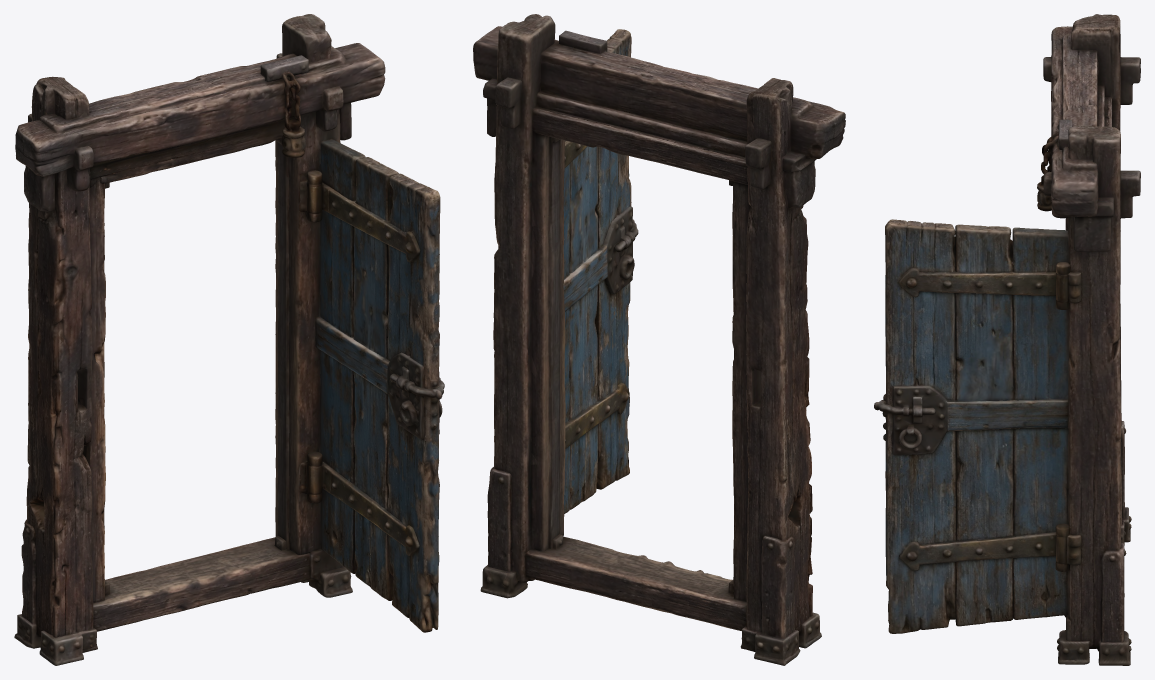
Rendered from door_tripo_segmented.glb.
3 views of the same model, side by side, from view 1: azimuth 30°, elevation 25°; view 2: azimuth 150°, elevation 25°; view 3: azimuth 270°, elevation 25° (orthographic). The views are drawn at different scales.
Visible parts, largest first — view 1: tripo_part_1, tripo_part_0, tripo_part_2, tripo_part_5, tripo_part_3, tripo_part_4, tripo_part_24, tripo_part_20, tripo_part_6, tripo_part_7, tripo_part_12, tripo_part_30 (+16 smaller); view 2: tripo_part_1, tripo_part_2, tripo_part_23, tripo_part_0, tripo_part_3, tripo_part_4, tripo_part_6, tripo_part_20, tripo_part_40, tripo_part_14, tripo_part_29, tripo_part_24 (+15 smaller); view 3: tripo_part_0, tripo_part_23, tripo_part_5, tripo_part_2, tripo_part_24, tripo_part_9, tripo_part_7, tripo_part_35, tripo_part_15, tripo_part_8, tripo_part_1, tripo_part_25 (+10 smaller).
Part boxes in pixels (x1,y1,x2,y2): tripo_part_1: (26, 76, 97, 652); tripo_part_0: (320, 173, 440, 572); tripo_part_2: (15, 43, 385, 176); tripo_part_5: (286, 109, 340, 554); tripo_part_3: (93, 537, 309, 631); tripo_part_4: (82, 180, 107, 603); tripo_part_24: (320, 489, 393, 600); tripo_part_20: (275, 138, 289, 549); tripo_part_6: (89, 117, 296, 187); tripo_part_7: (390, 538, 438, 632); tripo_part_12: (300, 451, 405, 545); tripo_part_30: (315, 316, 389, 394); tripo_part_1: (740, 78, 812, 651); tripo_part_2: (473, 26, 845, 172); tripo_part_23: (493, 14, 555, 553); tripo_part_0: (563, 29, 631, 422); tripo_part_3: (523, 536, 746, 630); tripo_part_4: (732, 181, 750, 602); tripo_part_6: (532, 107, 747, 184); tripo_part_20: (547, 136, 560, 548); tripo_part_40: (531, 225, 549, 464); tripo_part_14: (761, 536, 795, 639); tripo_part_29: (487, 467, 513, 571); tripo_part_24: (564, 421, 603, 513); tripo_part_0: (882, 219, 1068, 560); tripo_part_23: (1068, 125, 1121, 635); tripo_part_5: (1068, 216, 1099, 643); tripo_part_2: (1050, 26, 1114, 217); tripo_part_24: (946, 556, 1068, 626); tripo_part_9: (899, 519, 1081, 571); tripo_part_7: (888, 553, 950, 633); tripo_part_35: (956, 324, 1014, 401); tripo_part_15: (942, 396, 1068, 431); tripo_part_8: (898, 268, 1056, 297); tripo_part_1: (1065, 14, 1125, 545); tripo_part_25: (953, 224, 1012, 274).
Bounding box in the file's own units: 0.6576 × 1 × 0.4637.
Materials: 1 (1 with a texture image).
